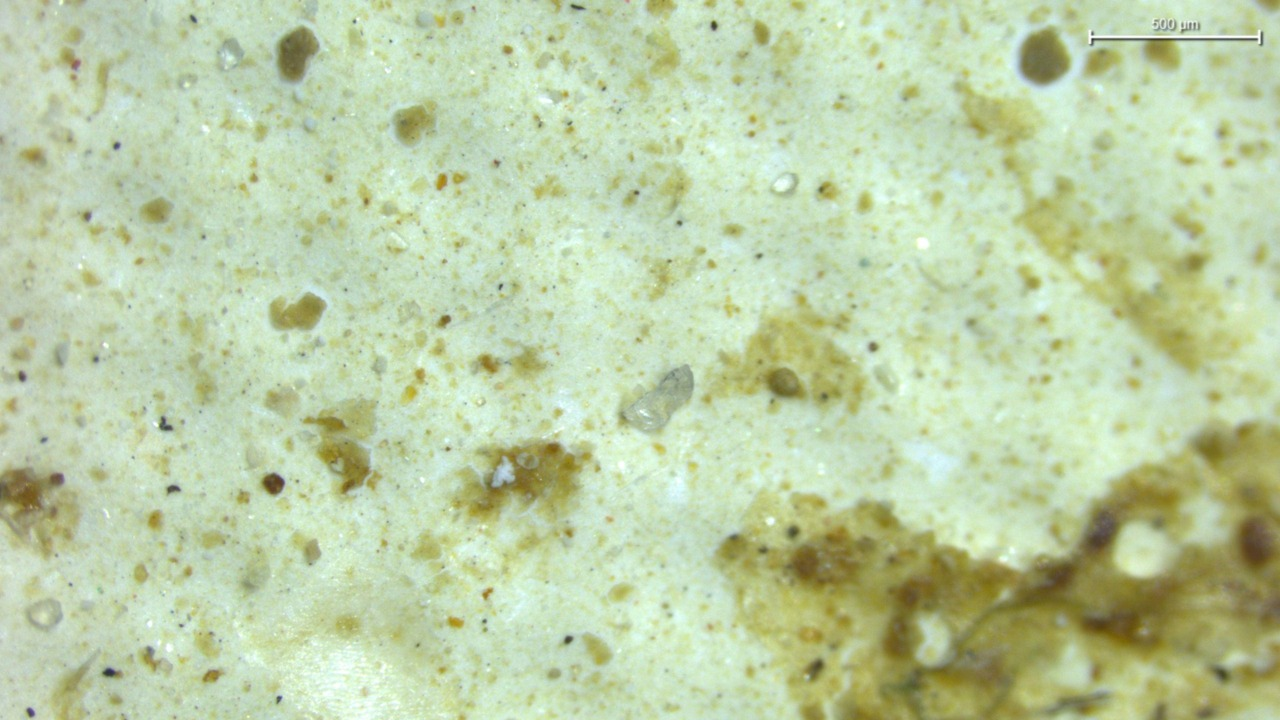microplastic_fragment: (622, 365, 694, 431)
